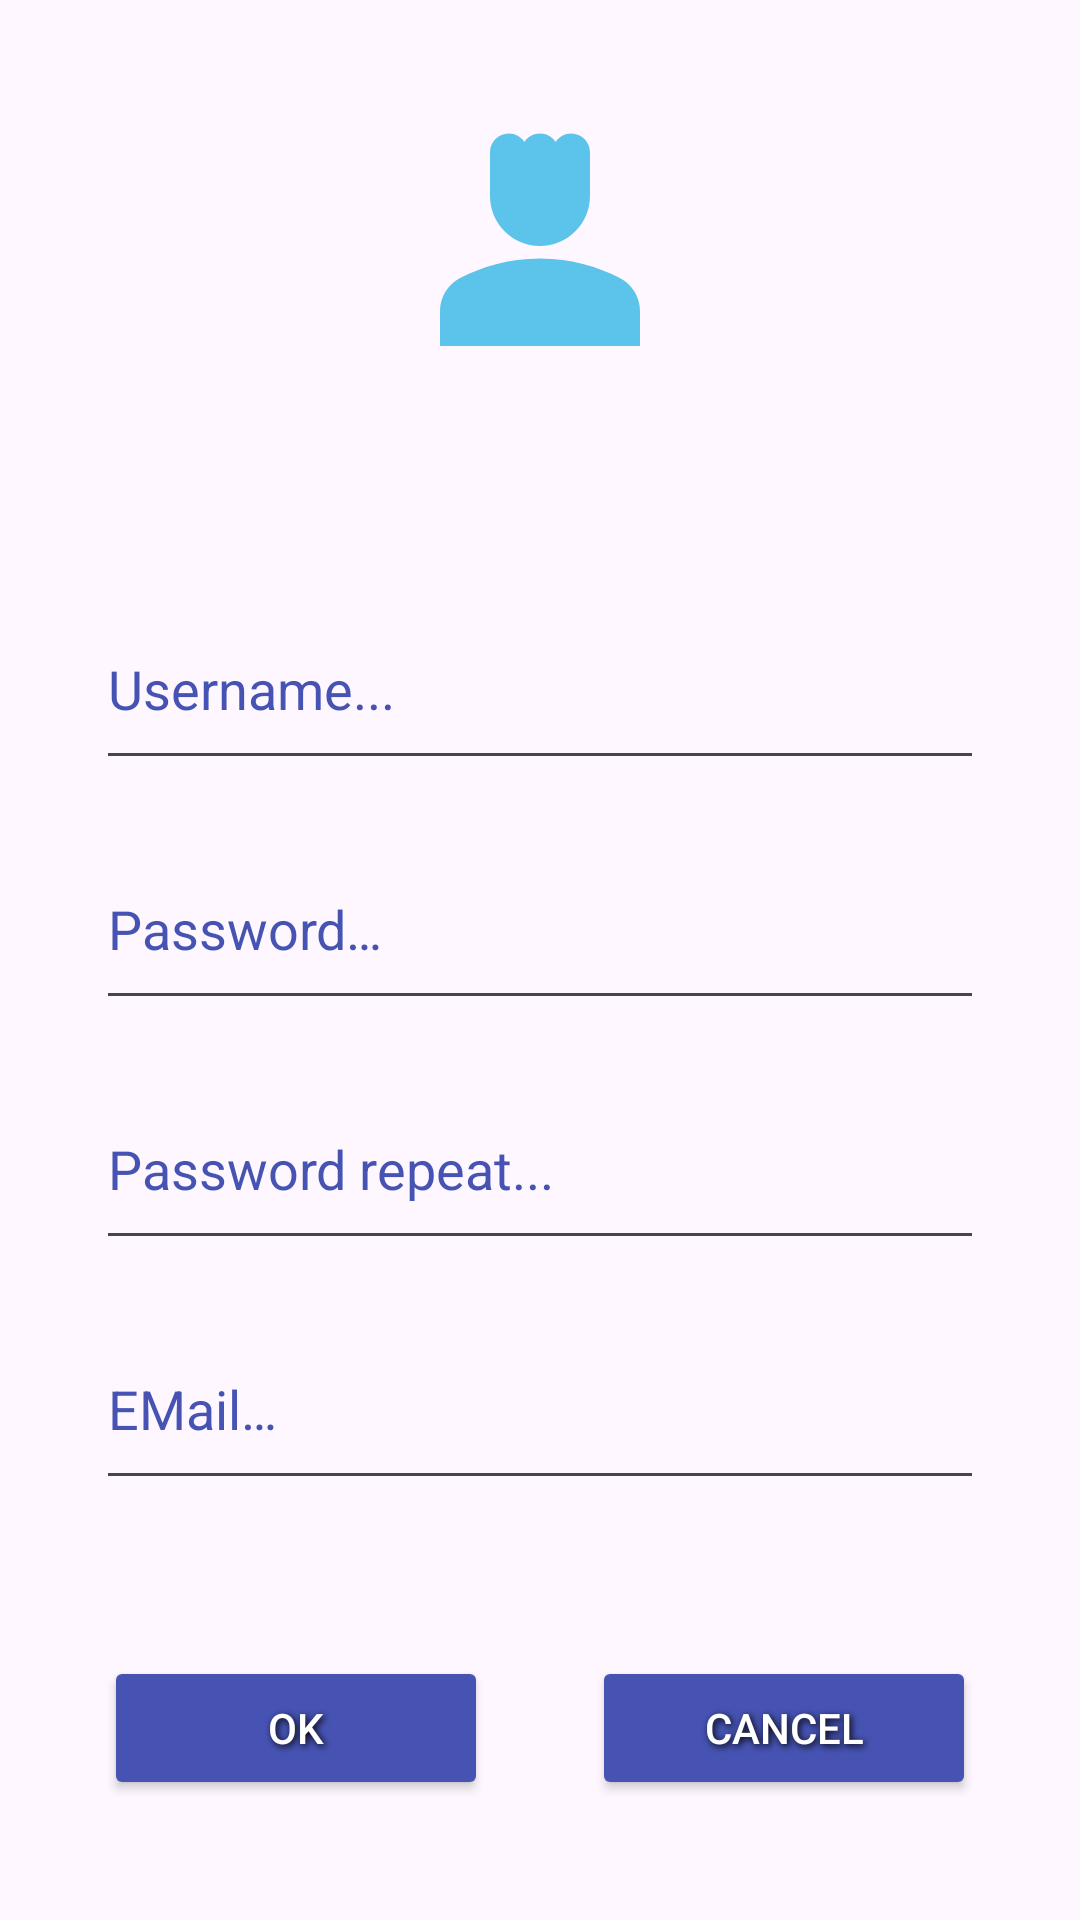

Locate icon controls on the screen. Image size 1080*1920, boxes as (x1, y1, x2, y2).
person: (440, 133, 640, 346)
